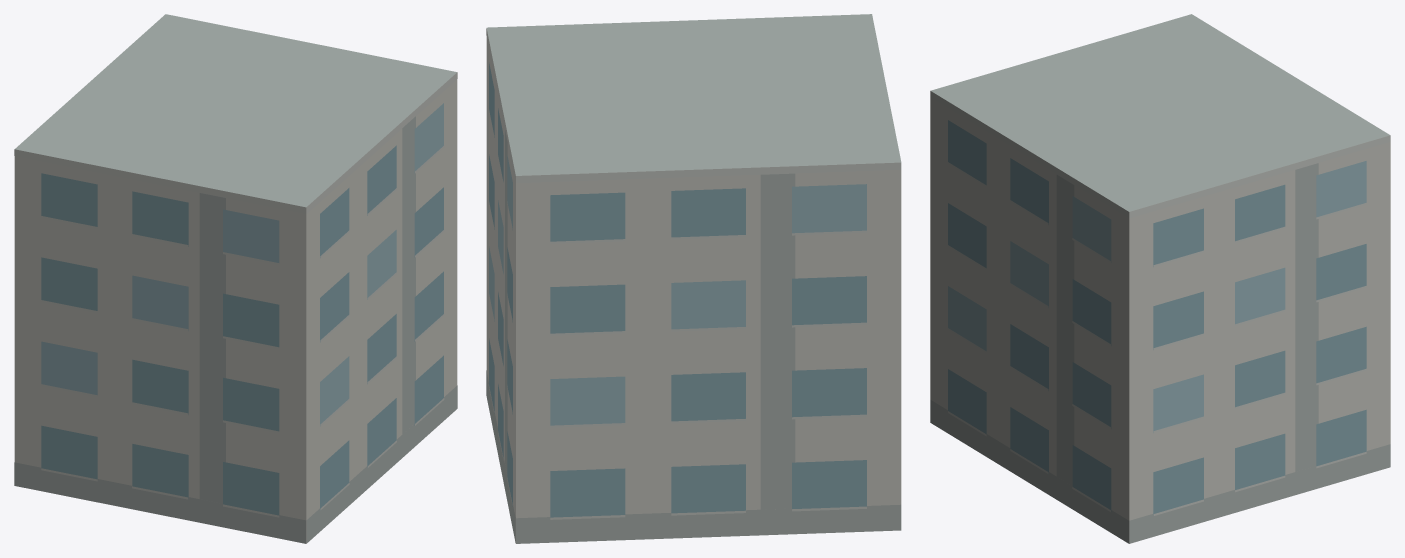
Rendered from residential-09036af3-40c5-4887-b3bb-1f981278f986.glb.
The picture shows the model from 3 angles, left to right: view 1: azimuth 30°, elevation 25°; view 2: azimuth 150°, elevation 25°; view 3: azimuth 270°, elevation 25°; orthographic projection. The views are drawn at different scales.
Parts seen in each view (by area): view 1: residential-09036af3-40c5-4887-b3bb-1f981278f986.tmp; view 2: residential-09036af3-40c5-4887-b3bb-1f981278f986.tmp; view 3: residential-09036af3-40c5-4887-b3bb-1f981278f986.tmp.
Boxes of the visible parts, <box> form: residential-09036af3-40c5-4887-b3bb-1f981278f986.tmp: <box>14,14,457,543</box>; residential-09036af3-40c5-4887-b3bb-1f981278f986.tmp: <box>486,14,901,543</box>; residential-09036af3-40c5-4887-b3bb-1f981278f986.tmp: <box>930,14,1390,543</box>.
Size of the model in its own units: 15.61 by 12.2 by 15.34.
